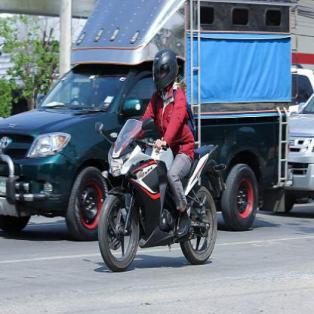Motocicleta: (86, 118, 220, 270)
